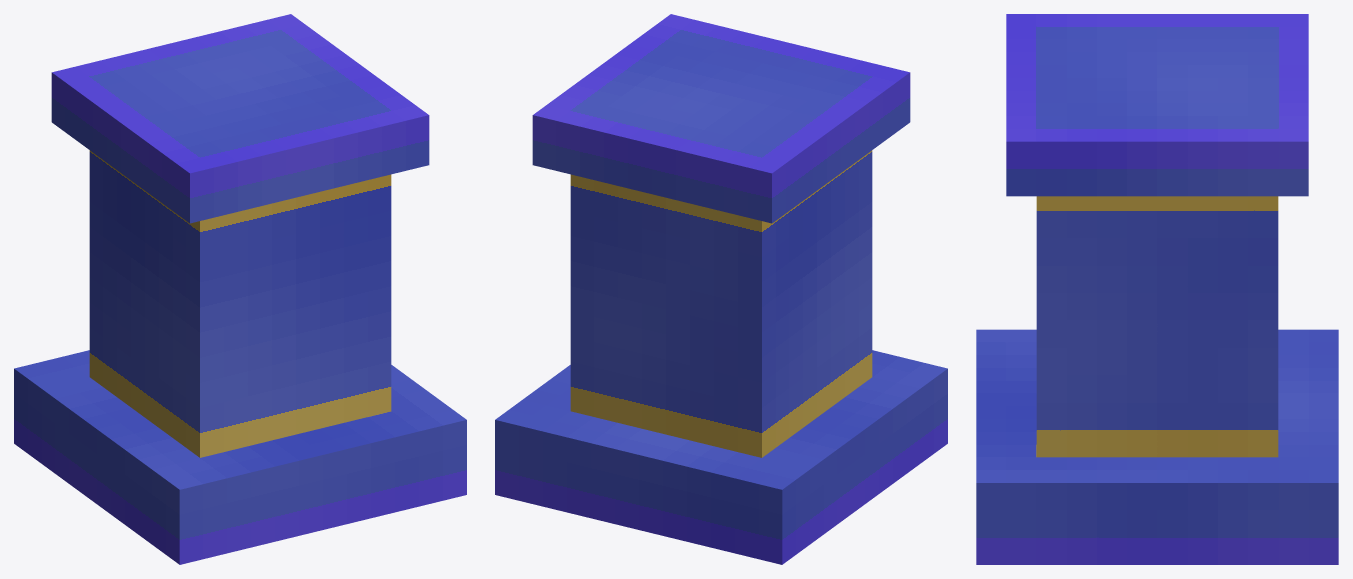
Rendered from magic_table.obj.
3 views of the same model, side by side, from view 1: azimuth 30°, elevation 25°; view 2: azimuth 150°, elevation 25°; view 3: azimuth 270°, elevation 25° (orthographic). The views are drawn at different scales.
Parts seen in each view (by area): view 1: body, top, bottom; view 2: body, top, bottom; view 3: body, top, bottom.
Boxes of the visible parts, x1,y1,x2,y2 form: body: (89,150,391,457); top: (51,14,429,223); bottom: (14,350,466,564); body: (570,150,872,457); top: (532,14,910,223); bottom: (495,350,947,564); body: (1036,196,1278,457); top: (1006,14,1308,196); bottom: (976,329,1338,564).
Size of the model in its own units: 0.75 by 0.9375 by 0.75.
